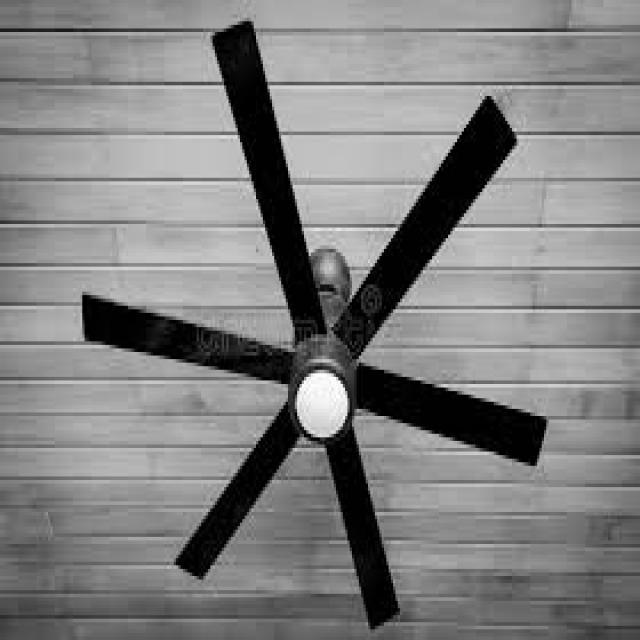fan_off: (79, 22, 546, 630)
